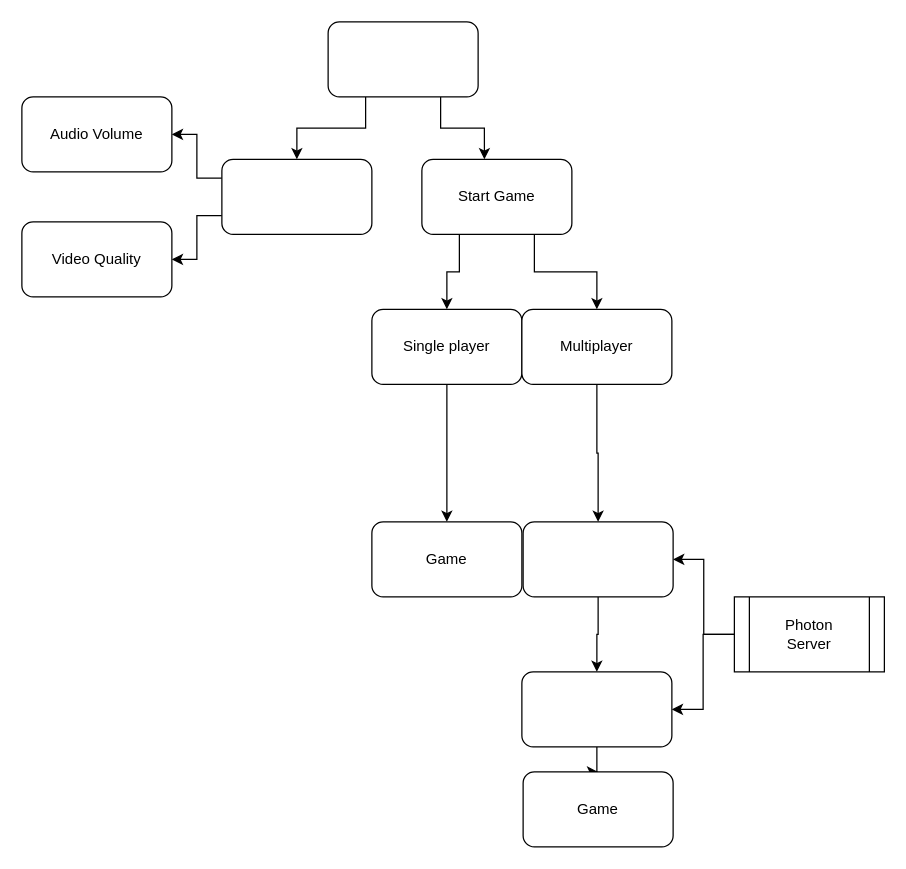
Some shapes in this 906 by 869 pixel diagram are drawn without their labels. Here are the shapes that lost their labels. From the top down, the box of each, then its label:
(327, 21, 478, 97): Start
(221, 158, 372, 234): Setting
(522, 521, 673, 597): Lobby View
(521, 671, 672, 747): Room view
